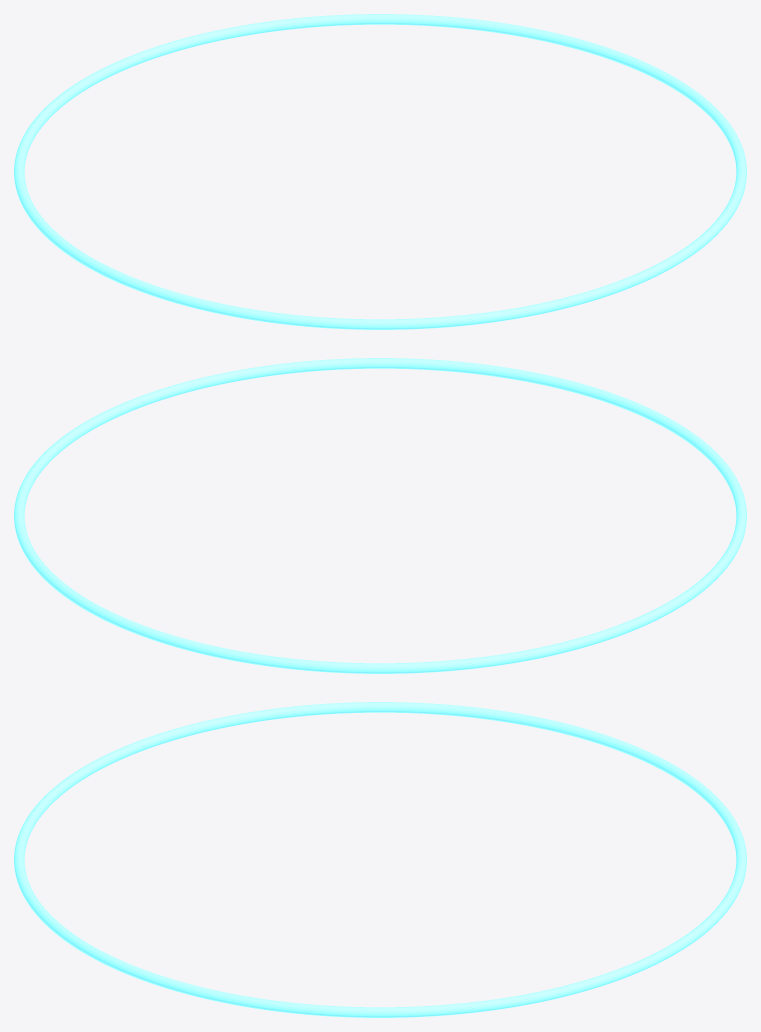
Rendered from portal_ring.glb.
3 views of the same model, one above another, from view 1: azimuth 30°, elevation 25°; view 2: azimuth 150°, elevation 25°; view 3: azimuth 270°, elevation 25° (orthographic).
Parts seen in each view (by area): view 1: PortalRing; view 2: PortalRing; view 3: PortalRing.
Boxes of the visible parts, left/top/right/bottom form: PortalRing: left=14, top=14, right=746, bottom=329; PortalRing: left=14, top=358, right=746, bottom=673; PortalRing: left=14, top=702, right=746, bottom=1017.
Bounding box in the file's own units: 2.48 × 0.036 × 2.48.
